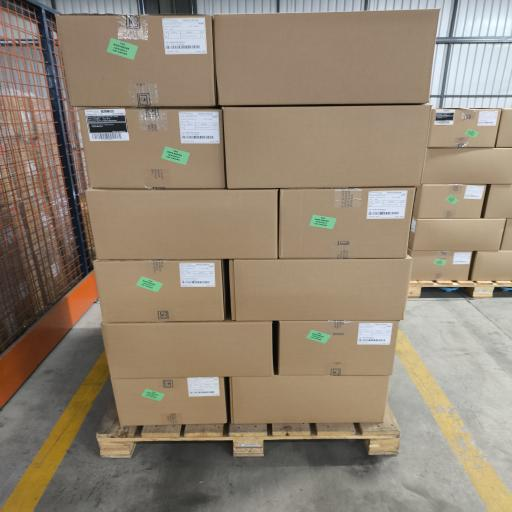pallet: (97, 402, 400, 457), (408, 281, 511, 298)
